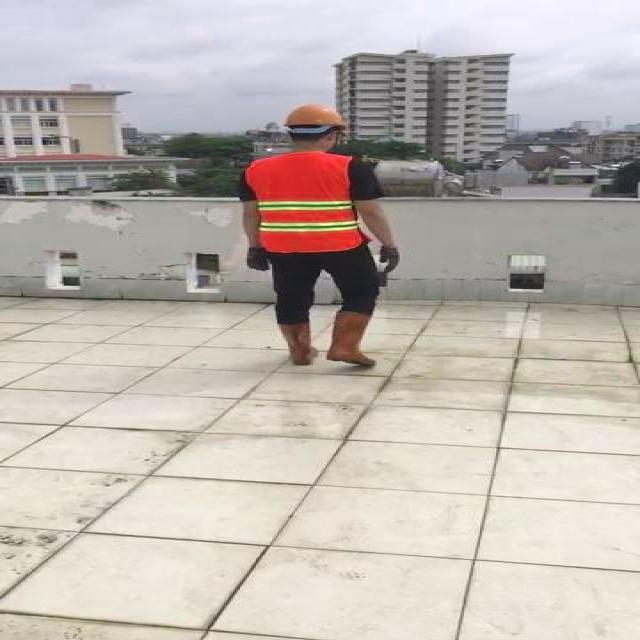boots: (325, 314, 379, 367), (279, 321, 318, 366)
hand_glove: (378, 244, 402, 273), (246, 246, 270, 273)
head_helmet: (284, 102, 346, 129)
person: (227, 101, 408, 369)
vest: (249, 151, 357, 251)
